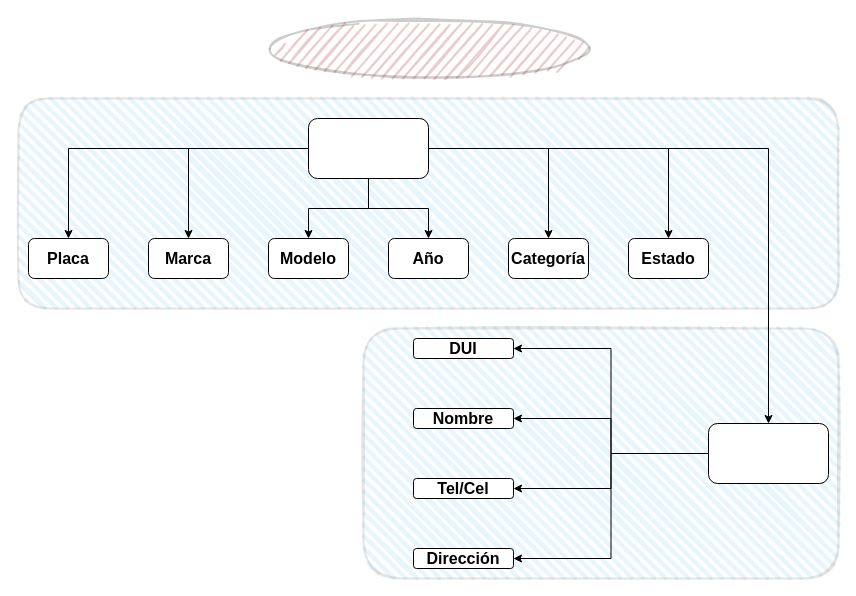
This 856x596 diagram has some shape labels left out. The shapes that lost their labels are listed below. From the top down, each one's centre as x and y in pixels, then its label:
At point 428,48: "Diagrama Estructural de Proyecto".
At point 368,148: "VEHÍCULO".
At point 768,453: "CONDUCTOR".
